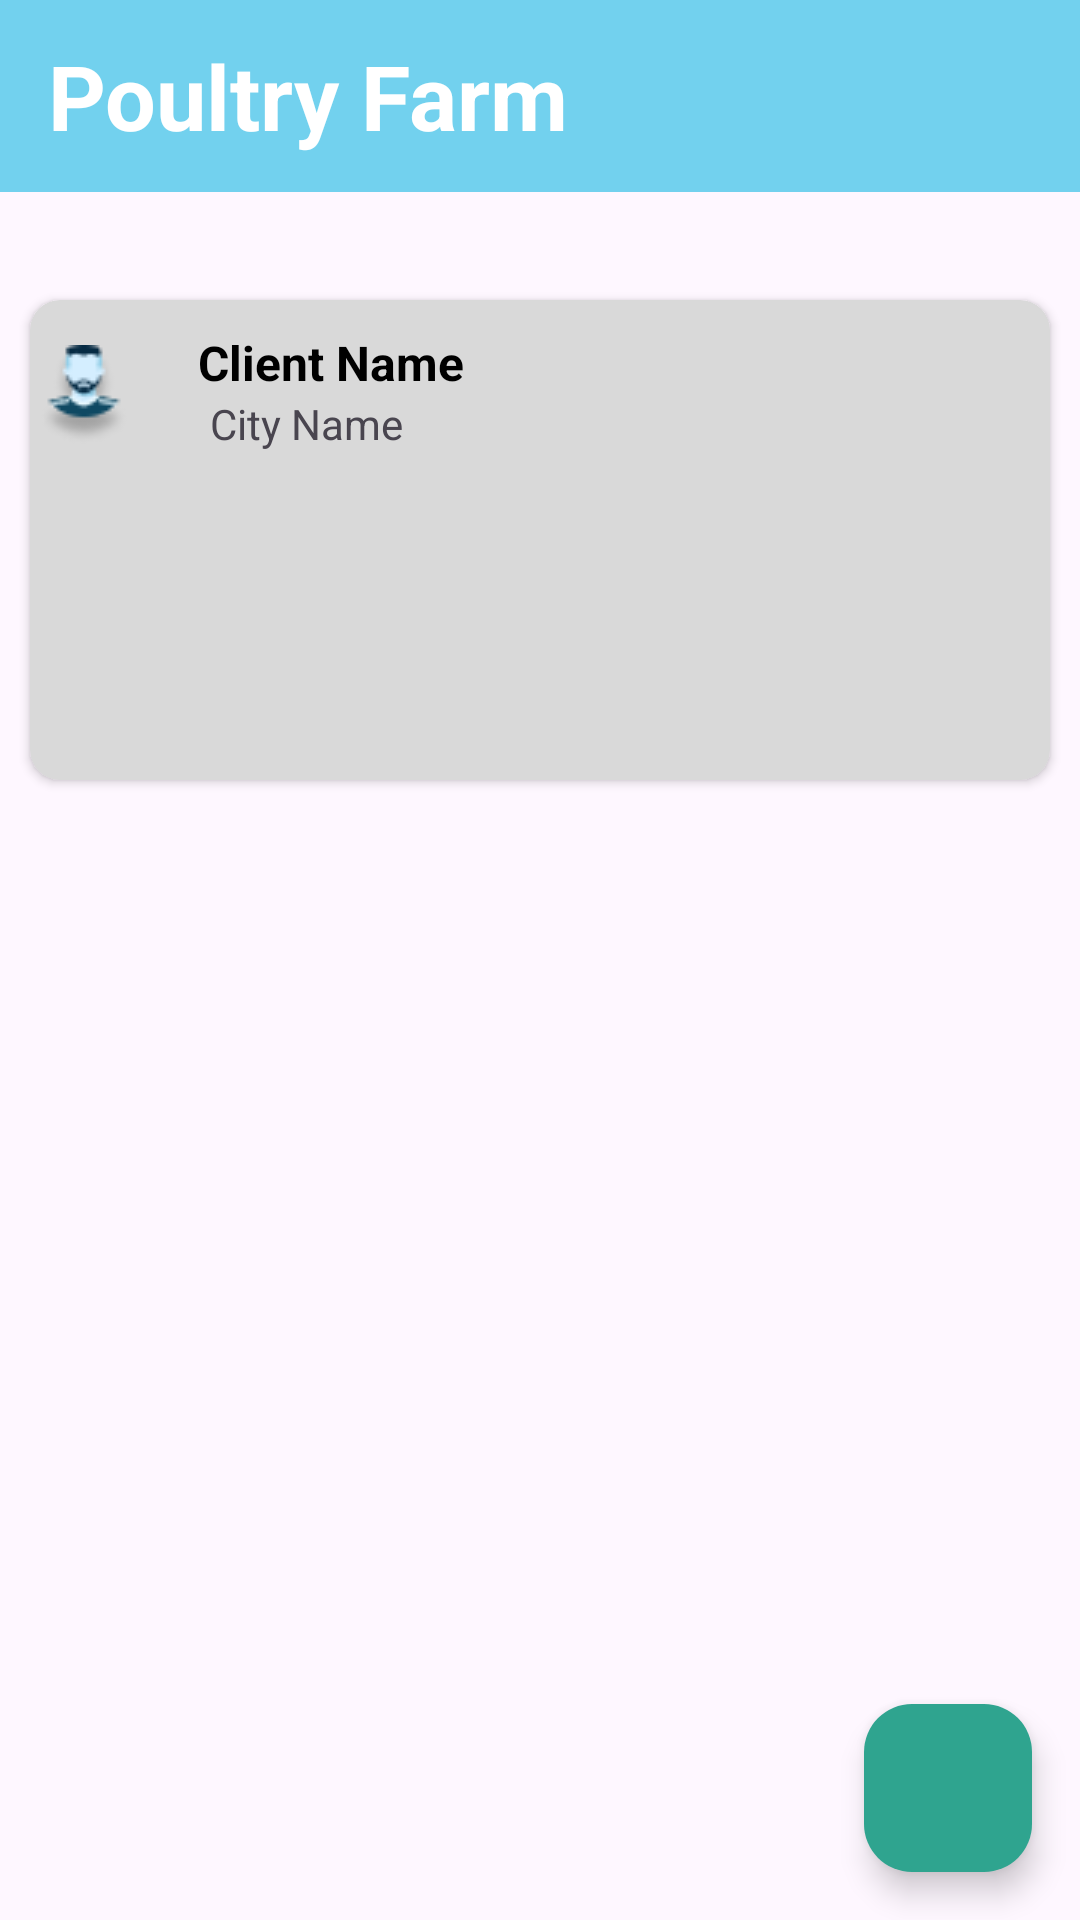

Point at icon controls on the screen. Image size 1080 x 1920, points as point (x, y).
person: point (84, 388)
